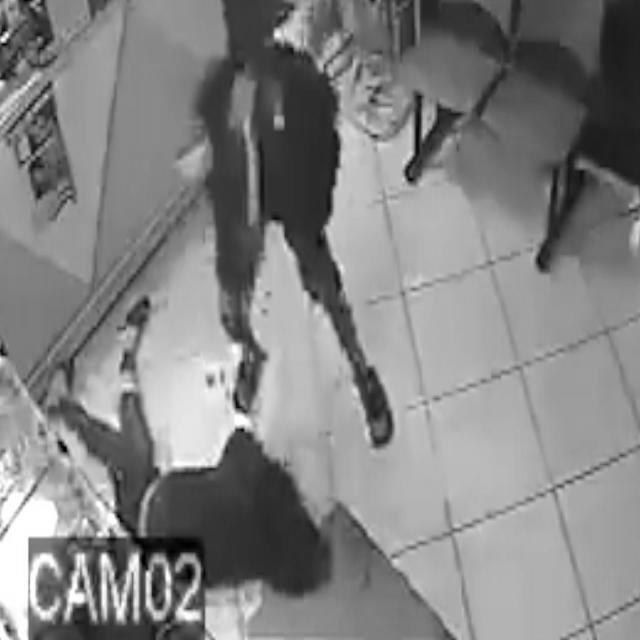weapon: (244, 126, 259, 227)
